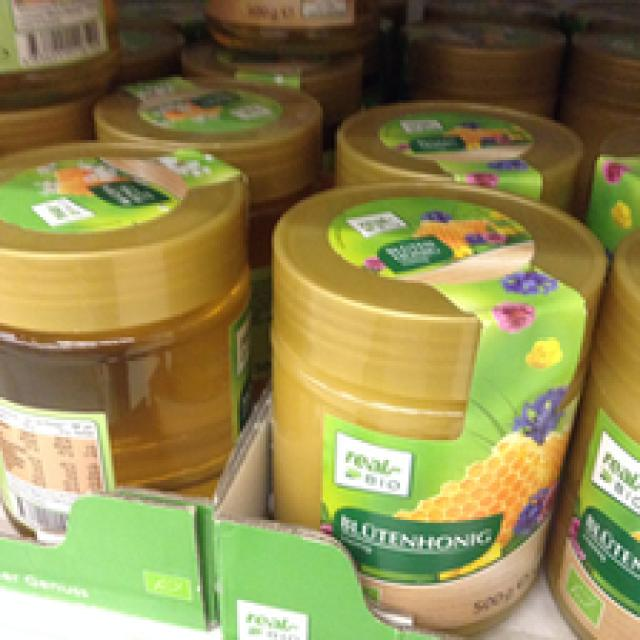groceries: (260, 177, 611, 634)
